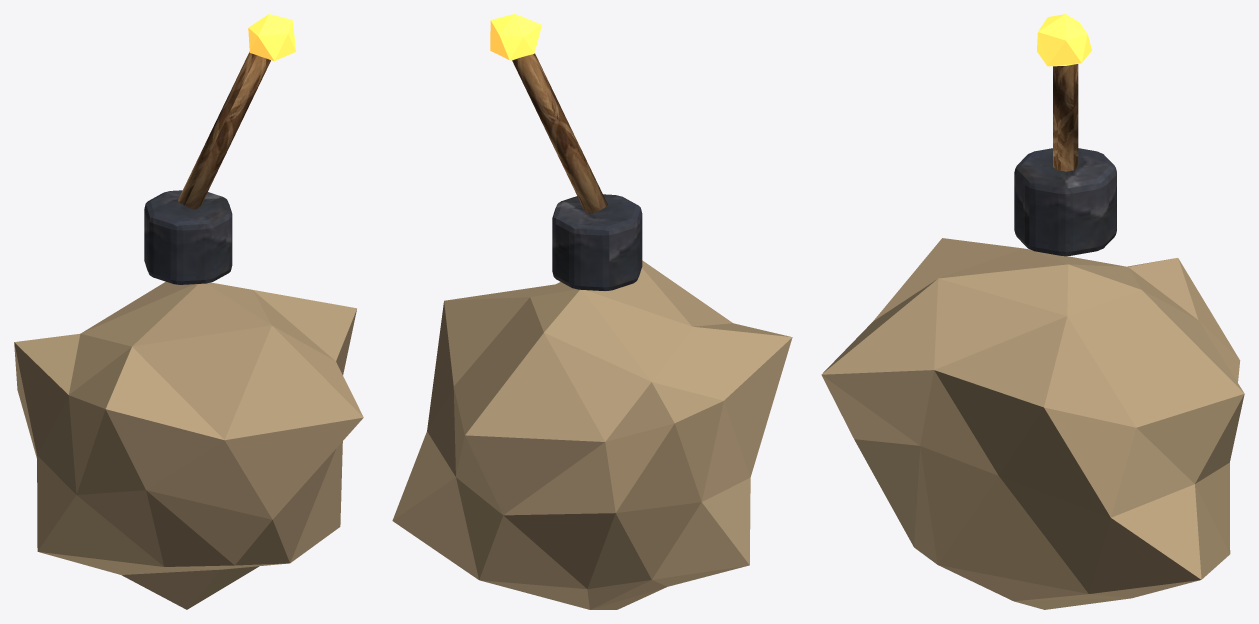
The model's file is blasting_pod.glb.
The picture shows the model from 3 angles, left to right: view 1: azimuth 30°, elevation 25°; view 2: azimuth 150°, elevation 25°; view 3: azimuth 270°, elevation 25°; orthographic projection. The views are drawn at different scales.
Parts seen in each view (by area): view 1: model; view 2: model; view 3: model.
Part boxes in pixels (x1=…): model: x1=14, y1=14, x2=363, y2=609; model: x1=392, y1=14, x2=792, y2=609; model: x1=821, y1=14, x2=1244, y2=609.
Size of the model in its own units: 0.1533 by 0.2685 by 0.1593.
4 materials, 2 textured.
